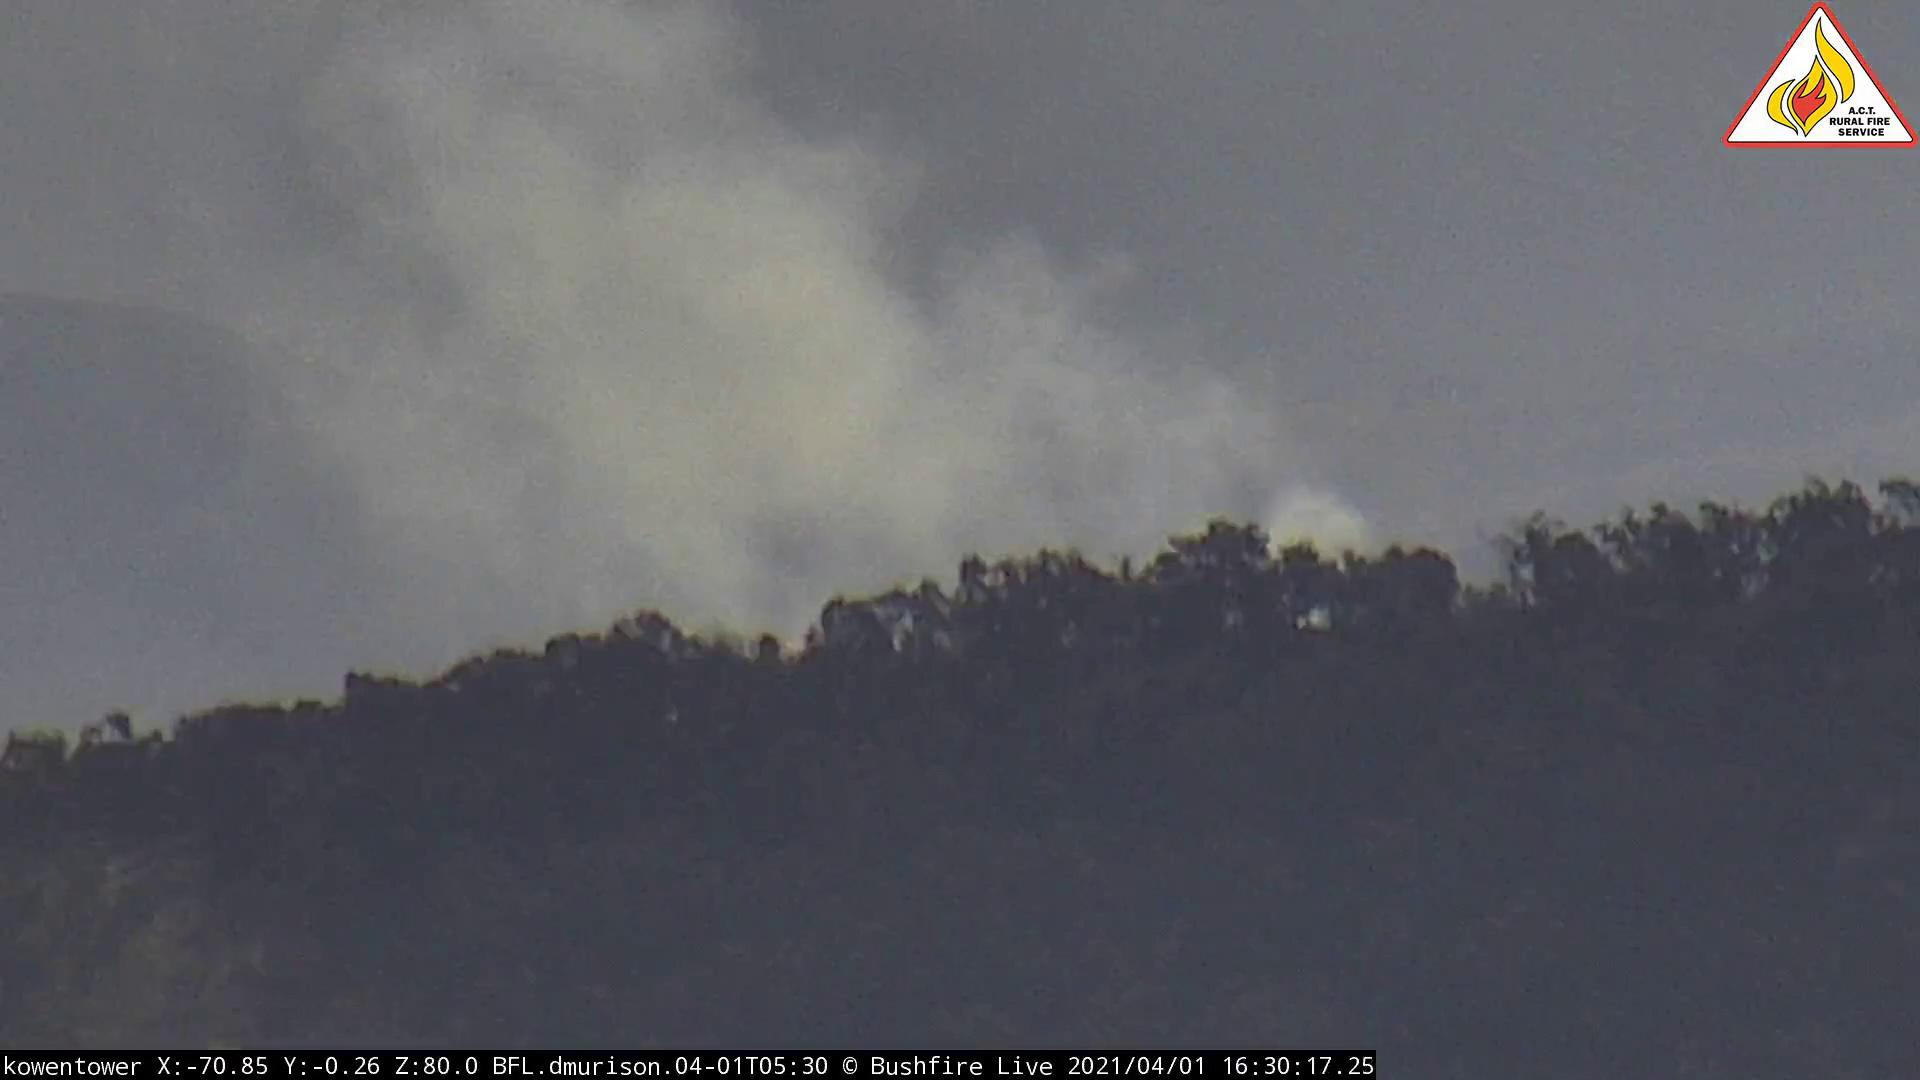Smoke: (40, 3, 1472, 715)
